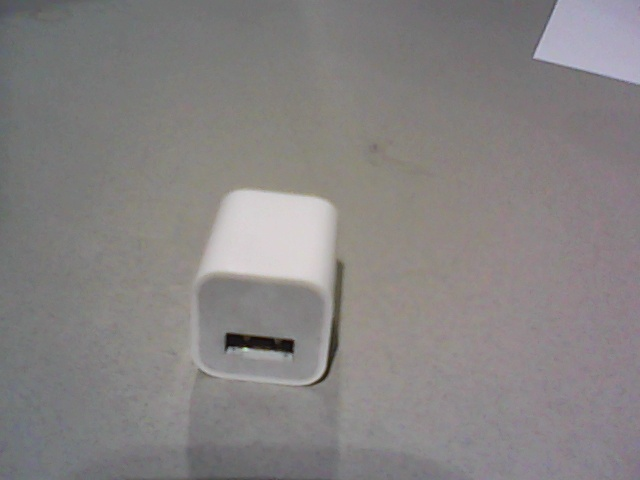charger: (189, 189, 341, 387)
